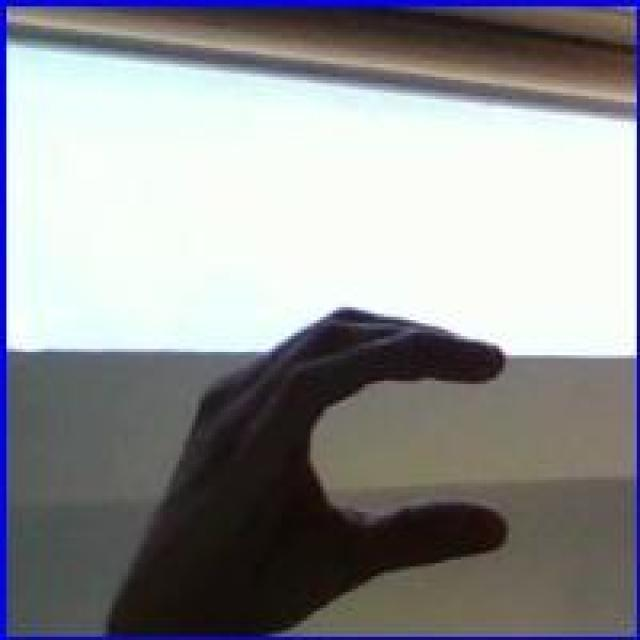C: (140, 294, 510, 630)
